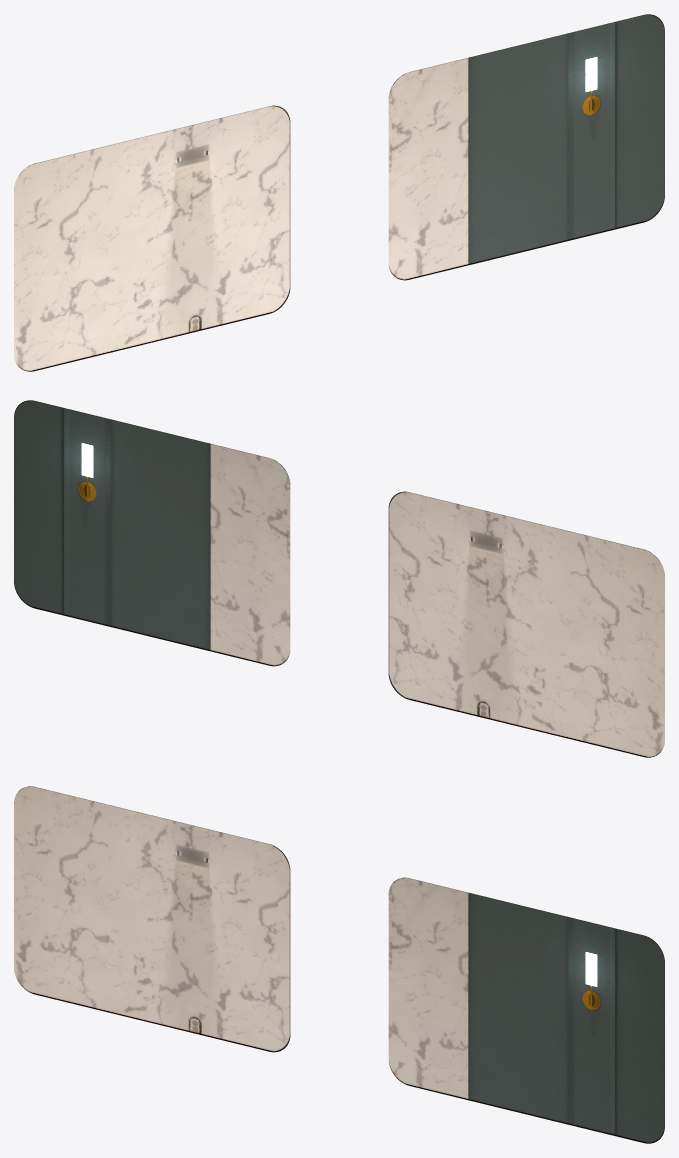
The model's file is bathroom_large_mirror.glb.
3 renders of one model, top to bottom at view 1: azimuth 30°, elevation 25°; view 2: azimuth 150°, elevation 25°; view 3: azimuth 330°, elevation 25°, orthographic.
Parts seen in each view (by area): view 1: Mirror; view 2: Mirror; view 3: Mirror.
Part boxes in pixels (x1,y1,x2,y2): Mirror: [14, 14, 664, 371]; Mirror: [14, 400, 664, 757]; Mirror: [14, 786, 664, 1143].
Size of the model in its own units: 3.26 by 0.9949 by 2.44e-07.
1 material, 1 textured.
